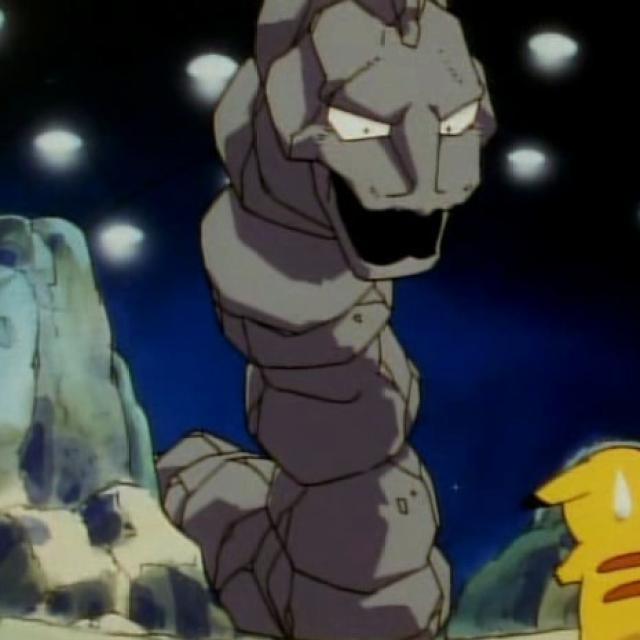Onix: (155, 0, 512, 639)
